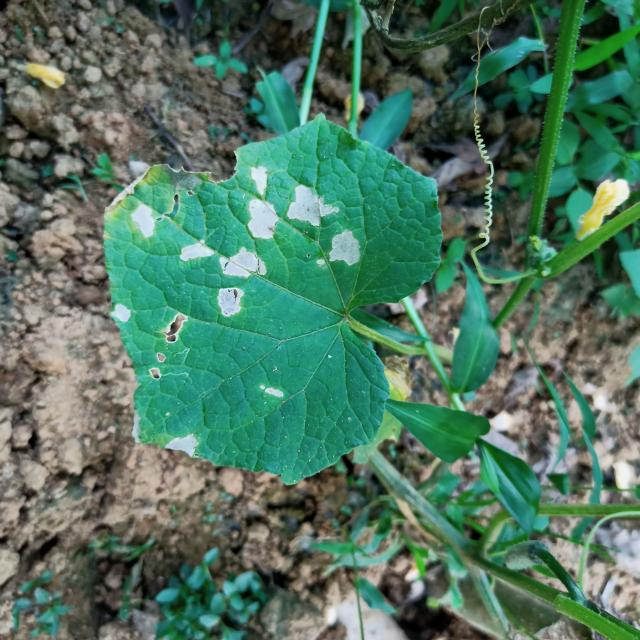disease_cucumber: (215, 248, 267, 322), (148, 315, 189, 382), (245, 164, 279, 242), (313, 228, 364, 275), (286, 186, 341, 228), (177, 239, 217, 267), (163, 430, 201, 458), (129, 205, 157, 240), (255, 385, 290, 399), (112, 301, 133, 324)
